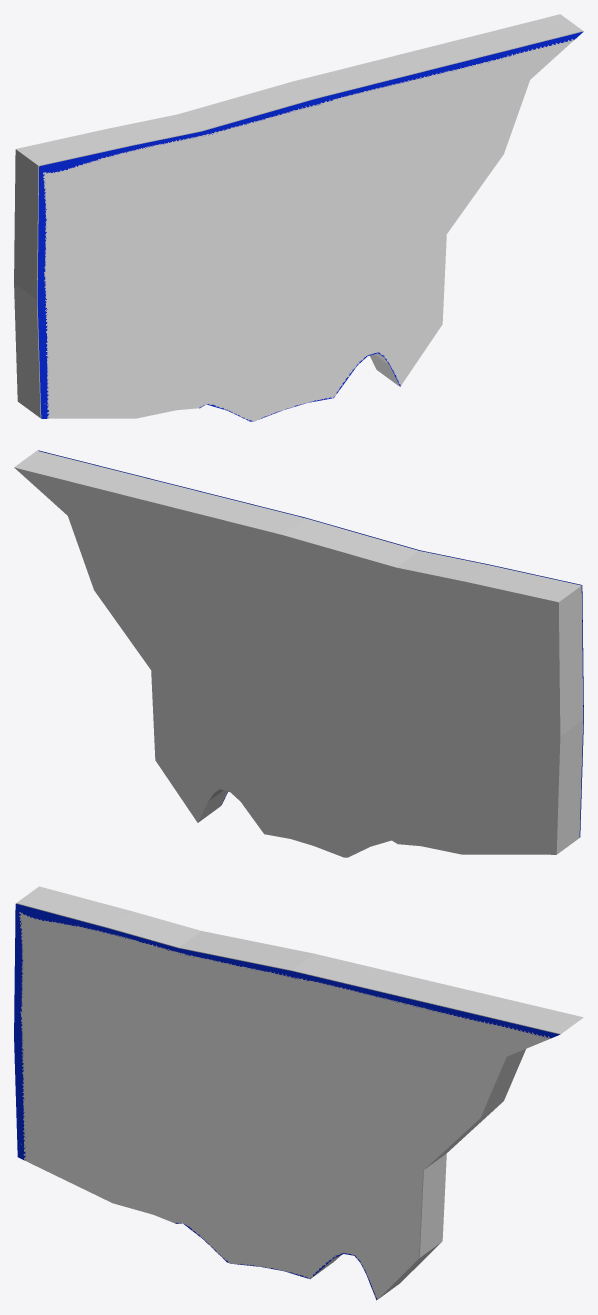
3 renders of one model, top to bottom at view 1: azimuth 30°, elevation 25°; view 2: azimuth 150°, elevation 25°; view 3: azimuth 330°, elevation 25°, orthographic.
Visible parts, largest first — view 1: Out_1_1, Out_1_0; view 2: Out_1_0, Out_1_1; view 3: Out_1_1, Out_1_0.
Boxes of the visible parts, box(x1,y1,x2,y2) form: Out_1_1: box(37, 31, 583, 421); Out_1_0: box(14, 14, 582, 418); Out_1_0: box(14, 450, 583, 857); Out_1_1: box(38, 450, 583, 837); Out_1_1: box(14, 904, 559, 1300); Out_1_0: box(16, 886, 583, 1299).
Bounding box in the file's own units: 6.88 × 3.74 × 0.515.
Materials: 2 (1 with a texture image).
